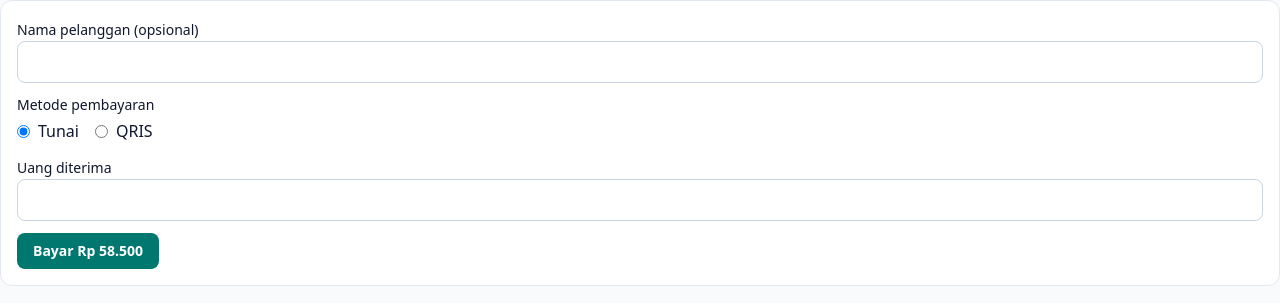
FormPembayaran (React Hook Form + Zod) › QRIS menyembunyikan kolom uang
The image size is (1280, 303).
Click the radio button labelled "QRIS". click: click(102, 131)
box: x1=95 y1=124 x2=108 y2=138
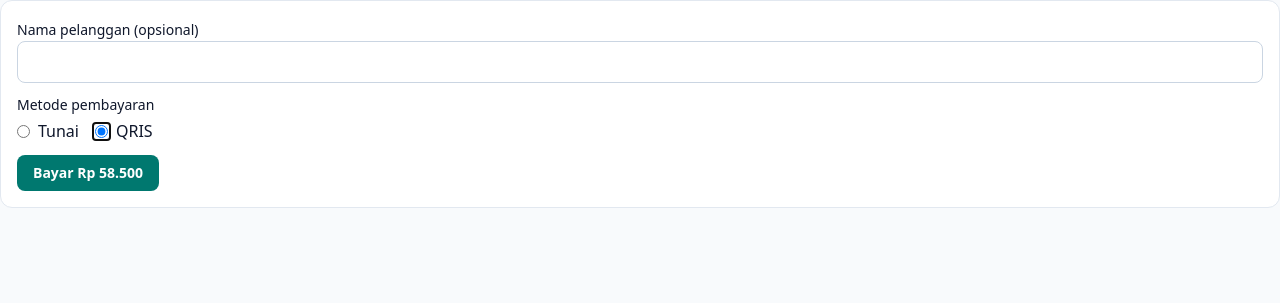
Expected: the label labelled "Uang diterima" is gone
